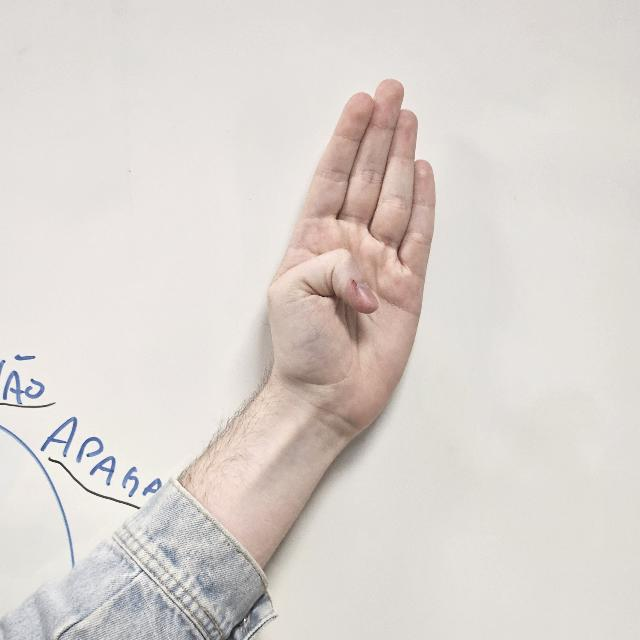Baixo: (264, 70, 438, 452)
